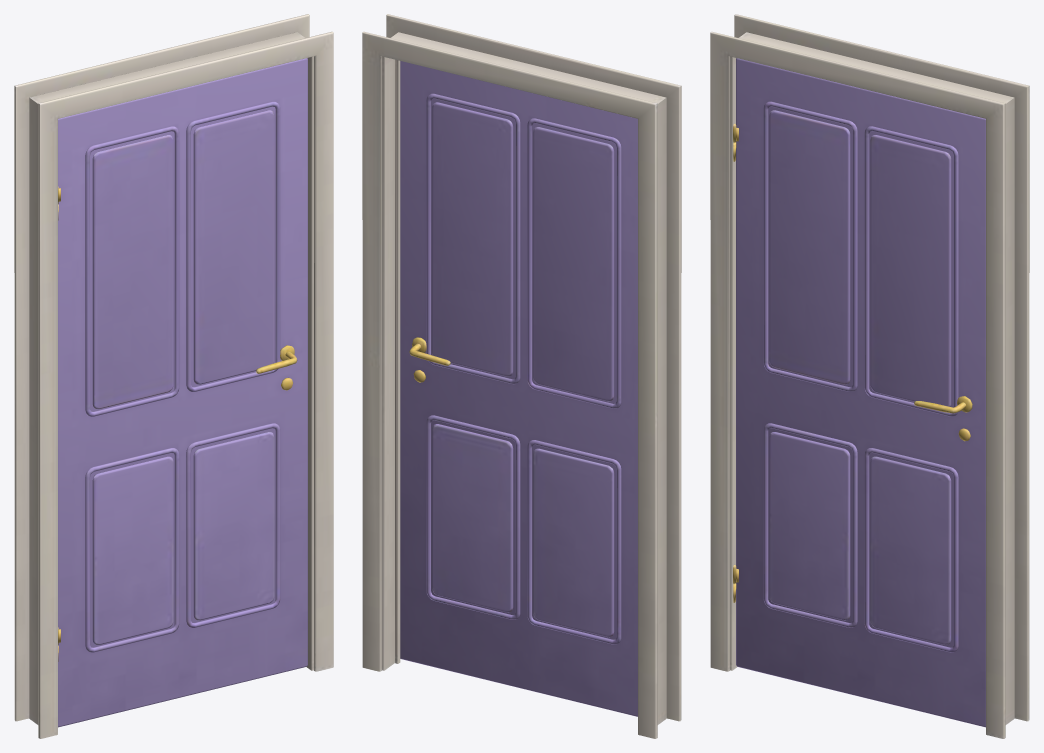
File: door.glb
The picture shows the model from 3 angles, left to right: view 1: azimuth 30°, elevation 25°; view 2: azimuth 150°, elevation 25°; view 3: azimuth 330°, elevation 25°; orthographic projection.
Visible parts, largest first — view 1: door_leaf, door_body; view 2: door_leaf, door_body; view 3: door_leaf, door_body.
Boxes of the visible parts, x1,y1,x2,y2 form: door_leaf: (58, 58, 307, 727); door_body: (14, 14, 333, 738); door_leaf: (400, 61, 637, 716); door_body: (362, 14, 681, 738); door_leaf: (733, 58, 985, 727); door_body: (710, 14, 1029, 738).
Bounding box in the file's own units: 1 × 2.07 × 0.1987.
2 materials, 2 textured.
